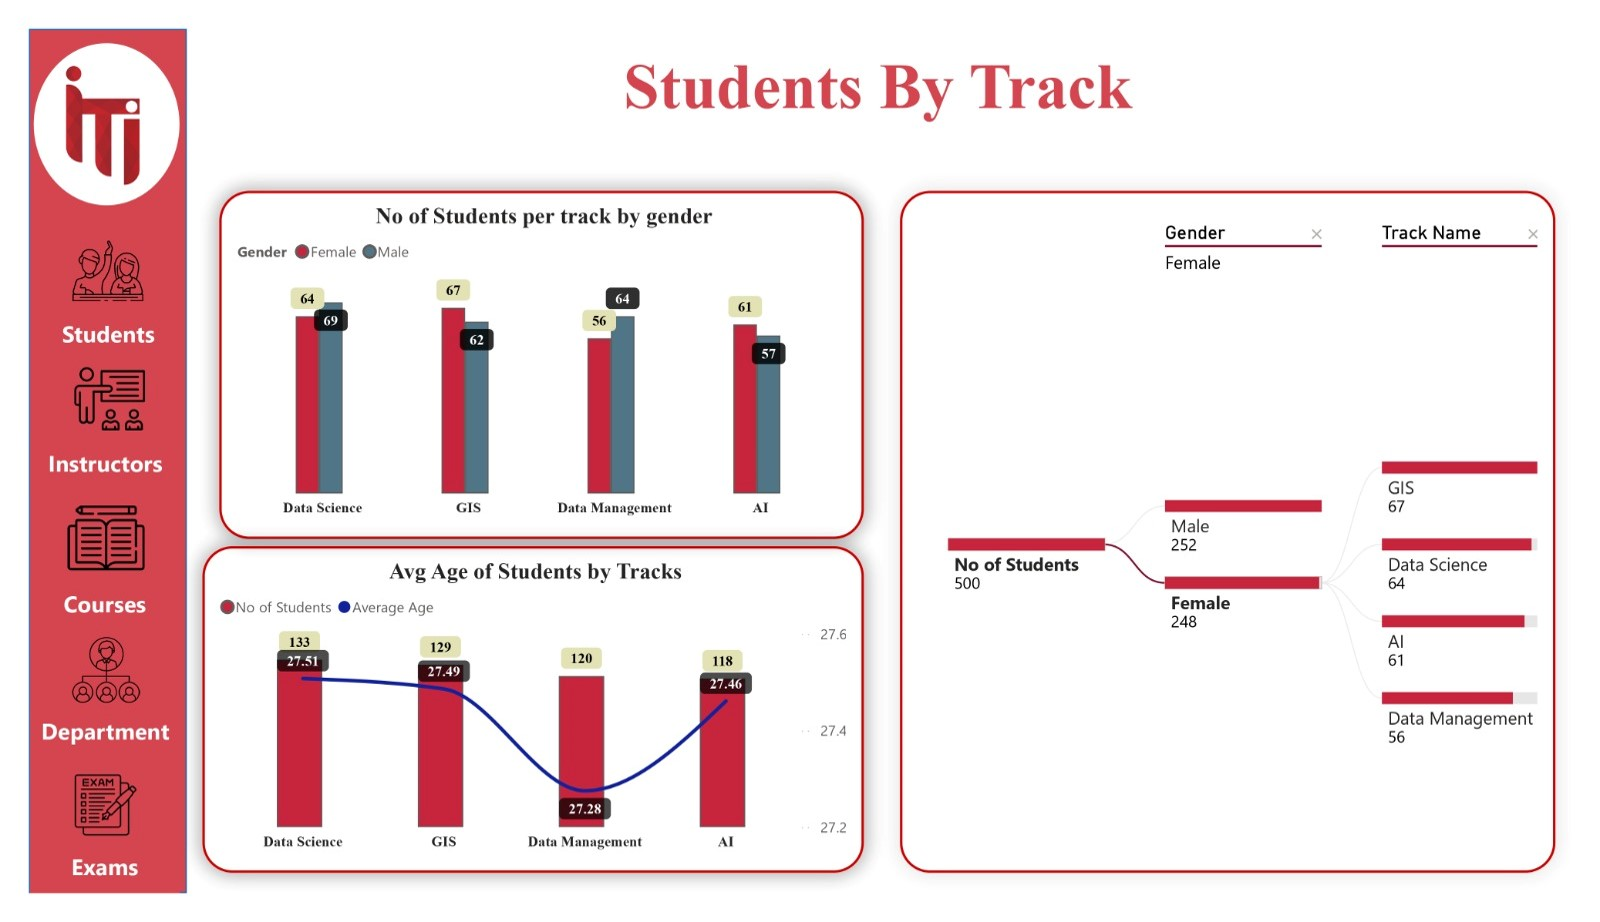

Layout of this report page (visuals, bound fields, positions):
{"tool":"powerbi","page":{"name":"Students by Track","canvas":[1280,720],"ordinal":5},"visuals":[{"type":"textbox","box":[449.3,11.5,511.2,97.9],"z":0},{"type":"image","box":[7.2,272.1,119.5,72],"z":0,"group":"g1"},{"type":"shape","box":[0,0,131,720],"z":1000},{"type":"image","box":[5.7,167,121,69.1],"z":1000,"group":"g1"},{"type":"shape","box":[4.3,11.5,121,135.4],"z":2000},{"type":"textbox","box":[11.5,236.1,109.4,36],"z":2000,"group":"g1"},{"type":"image","box":[0,11.5,125.3,123.8],"z":3000},{"type":"textbox","box":[1.4,344.1,125.3,43.2],"z":3000,"group":"g1"},{"type":"decompositionTreeVisual","title":"Student''s Gender Distribution","fields":{"Analyze":["Measures (2).No of Students"],"ExplainBy":["Fact_student.std_Gender","Dim_tracks.TrackName"]},"box":[722.9,135.4,544.3,567.4],"z":4000},{"type":"image","box":[1.4,387.3,125.3,73.4],"z":4000,"group":"g1"},{"type":"clusteredColumnChart","title":"No of Students per track by gender ","fields":{"Category":["Dim_tracks.TrackName"],"Series":["Fact_student.std_Gender"],"Y":["Measures (2).No of Students"]},"box":[144,135.4,548.6,289.4],"z":5000},{"type":"image","box":[1.4,613.4,125.3,66.2],"z":5000,"group":"g1"},{"type":"lineClusteredColumnComboChart","title":"Avg Age of Students by Tracks","fields":{"Category":["Dim_tracks.TrackName"],"Y":["Measures (2).No of Students"],"Y2":["Measures (2).AverageAge"]},"box":[144,430.6,548.6,272.2],"z":6000},{"type":"textbox","box":[1.4,460.8,123.8,43.2],"z":6000,"group":"g1"},{"type":"group","id":"g1","title":"Group 1","box":[1.4,167,125.3,553],"z":7000},{"type":"textbox","box":[1.4,679.6,123.8,40.3],"z":7000,"group":"g1"},{"type":"image","box":[1.4,501.1,125.3,66.2],"z":8000,"group":"g1"},{"type":"textbox","box":[1.4,567.3,125.3,46.1],"z":9000,"group":"g1"}]}

Visuals, with their boxes in screenshot pixels (x1, y1, x2, y2), scaled from the page's 1280x720 canvas onto the 1600x922 screenshot:
textbox: 562:15:1201:140
image: 9:348:158:441
shape: 0:0:164:921
image: 7:214:158:302
shape: 5:15:157:188
textbox: 14:302:151:348
image: 0:15:157:173
textbox: 2:441:158:496
"Student''s Gender Distribution" decompositionTreeVisual: 904:173:1584:900
image: 2:496:158:590
"No of Students per track by gender " clusteredColumnChart: 180:173:866:544
image: 2:785:158:870
"Avg Age of Students by Tracks" lineClusteredColumnComboChart: 180:551:866:900
textbox: 2:590:156:645
"Group 1" group: 2:214:158:921
textbox: 2:870:156:921
image: 2:642:158:726
textbox: 2:726:158:785
